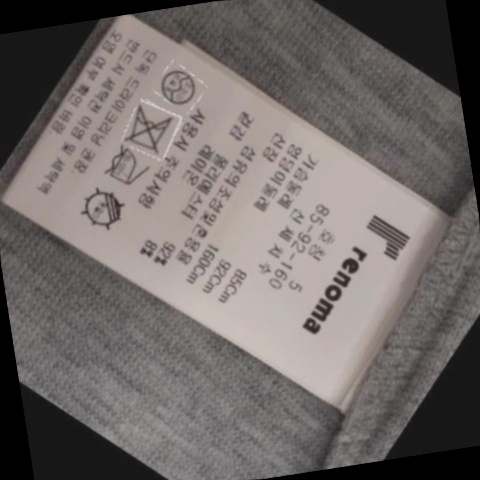DN_wash: (120, 100, 184, 158)
dry_clean_petrol_only: (154, 60, 205, 111)
iron_low: (97, 142, 154, 194)
line_dry_in_shade: (76, 182, 137, 236)
